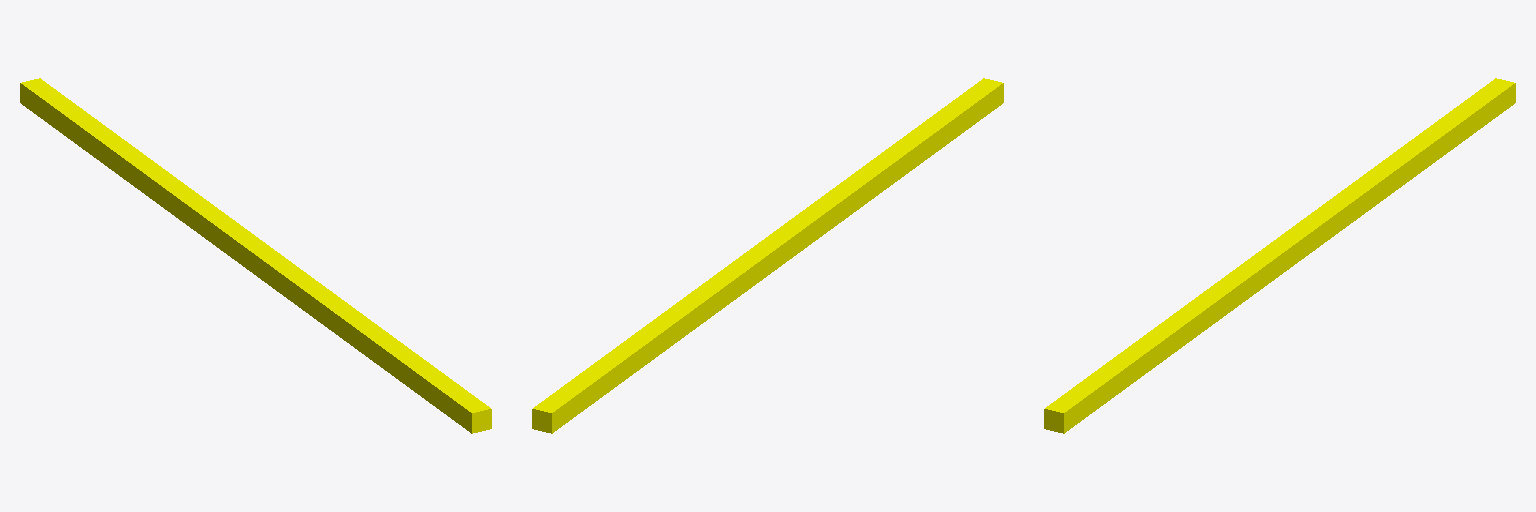
The robot description file, URDF, robot "framefab_irb2400_simple_track":
<?xml version="1.0" ?>
<!-- =================================================================================== -->
<!-- |    This document was autogenerated by xacro from irb2400_with_simple_track_workspace.xacro | -->
<!-- |    EDITING THIS FILE BY HAND IS NOT RECOMMENDED                                 | -->
<!-- =================================================================================== -->
<robot name="framefab_irb2400_simple_track" xmlns:xacro="http://ros.org/wiki/xacro">
  <!-- Conversion were obtained from http://www.e-paint.co.uk/Lab_values.asp
       unless otherwise stated. -->
  <!--	<xacro:include filename="$(find framefab_irb6600_support)/urdf/simple_linear_track_demo_cell_macro.xacro"/>-->
  <!-- link list -->
  <link name="robot_base_link">
    <visual>
      <origin rpy="0 0 0" xyz="0 0 0"/>
      <geometry>
        <mesh filename="package://abb_irb2400_support/meshes/irb2400/visual/base_link.dae"/>
      </geometry>
      <material name="">
        <color rgba="0.7372549 0.3490196 0.1607843 1"/>
      </material>
    </visual>
    <collision>
      <geometry>
        <mesh filename="package://abb_irb2400_support/meshes/irb2400/collision/base_link.stl"/>
      </geometry>
      <material name="">
        <color rgba="1 1 0 1"/>
      </material>
    </collision>
  </link>
  <link name="robot_link_1">
    <visual>
      <origin rpy="0 0 0" xyz="0 0 0"/>
      <geometry>
        <mesh filename="package://abb_irb2400_support/meshes/irb2400/visual/link_1.dae"/>
      </geometry>
      <material name="">
        <color rgba="0.7372549 0.3490196 0.1607843 1"/>
      </material>
    </visual>
    <collision>
      <origin rpy="0 0 0" xyz="0 0 0"/>
      <geometry>
        <mesh filename="package://abb_irb2400_support/meshes/irb2400/collision/link_1.stl"/>
      </geometry>
      <material name="">
        <color rgba="1 1 0 1"/>
      </material>
    </collision>
  </link>
  <link name="robot_link_2">
    <visual>
      <origin rpy="0 0 0" xyz="0 0 0"/>
      <geometry>
        <mesh filename="package://abb_irb2400_support/meshes/irb2400/visual/link_2.dae"/>
      </geometry>
      <material name="">
        <color rgba="0.7372549 0.3490196 0.1607843 1"/>
      </material>
    </visual>
    <collision>
      <origin rpy="0 0 0" xyz="0 0 0"/>
      <geometry>
        <mesh filename="package://abb_irb2400_support/meshes/irb2400/collision/link_2_whole.stl"/>
      </geometry>
      <material name="">
        <color rgba="1 1 0 1"/>
      </material>
    </collision>
  </link>
  <link name="robot_link_3">
    <visual>
      <origin rpy="0 0 0" xyz="0 0 0"/>
      <geometry>
        <mesh filename="package://abb_irb2400_support/meshes/irb2400/visual/link_3.dae"/>
      </geometry>
      <material name="">
        <color rgba="0.7372549 0.3490196 0.1607843 1"/>
      </material>
    </visual>
    <collision>
      <origin rpy="0 0 0" xyz="0 0 0"/>
      <geometry>
        <mesh filename="package://abb_irb2400_support/meshes/irb2400/collision/link_3.stl"/>
      </geometry>
      <material name="">
        <color rgba="1 1 0 1"/>
      </material>
    </collision>
  </link>
  <link name="robot_link_4">
    <visual>
      <origin rpy="0 0 0" xyz="0 0 0"/>
      <geometry>
        <mesh filename="package://abb_irb2400_support/meshes/irb2400/visual/link_4.dae"/>
      </geometry>
      <material name="">
        <color rgba="0.7372549 0.3490196 0.1607843 1"/>
      </material>
    </visual>
    <collision>
      <origin rpy="0 0 0" xyz="0 0 0"/>
      <geometry>
        <mesh filename="package://abb_irb2400_support/meshes/irb2400/collision/link_4.stl"/>
      </geometry>
      <material name="">
        <color rgba="1 1 0 1"/>
      </material>
    </collision>
  </link>
  <link name="robot_link_5">
    <visual>
      <origin rpy="0 0 0" xyz="0 0 0"/>
      <geometry>
        <mesh filename="package://abb_irb2400_support/meshes/irb2400/visual/link_5.dae"/>
      </geometry>
      <material name="">
        <color rgba="0.7372549 0.3490196 0.1607843 1"/>
      </material>
    </visual>
    <collision>
      <origin rpy="0 0 0" xyz="0 0 0"/>
      <geometry>
        <mesh filename="package://abb_irb2400_support/meshes/irb2400/collision/link_5.stl"/>
      </geometry>
      <material name="">
        <color rgba="1 1 0 1"/>
      </material>
    </collision>
  </link>
  <link name="robot_link_6">
    <visual>
      <origin rpy="0 0 0" xyz="0 0 0"/>
      <geometry>
        <mesh filename="package://abb_irb2400_support/meshes/irb2400/visual/link_6.dae"/>
      </geometry>
      <material name="">
        <color rgba="0.1882353 0.1960784 0.2039216 1"/>
      </material>
    </visual>
    <collision>
      <origin rpy="0 0 0" xyz="0 0 0"/>
      <geometry>
        <mesh filename="package://abb_irb2400_support/meshes/irb2400/collision/link_6.stl"/>
      </geometry>
      <material name="">
        <color rgba="1 1 0 1"/>
      </material>
    </collision>
  </link>
  <link name="robot_tool0"/>
  <!-- end of link list -->
  <!-- joint list -->
  <joint name="robot_joint_1" type="revolute">
    <origin rpy="0 0 0" xyz="0 0 0"/>
    <parent link="robot_base_link"/>
    <child link="robot_link_1"/>
    <axis xyz="0 0 1"/>
    <limit effort="0" lower="-3.1416" upper="3.1416" velocity="2.618"/>
  </joint>
  <joint name="robot_joint_2" type="revolute">
    <origin rpy="0 0 0" xyz="0.1 0 0.615"/>
    <parent link="robot_link_1"/>
    <child link="robot_link_2"/>
    <axis xyz="0 1 0"/>
    <limit effort="0" lower="-1.7453" upper="1.9199" velocity="2.618"/>
  </joint>
  <joint name="robot_joint_3" type="revolute">
    <origin rpy="0 0 0" xyz="0 0 0.705"/>
    <parent link="robot_link_2"/>
    <child link="robot_link_3"/>
    <axis xyz="0 1 0"/>
    <limit effort="0" lower="-1.0472" upper="1.1345" velocity="2.618"/>
  </joint>
  <joint name="robot_joint_4" type="revolute">
    <origin rpy="0 0 0" xyz="0.258 0 0.135"/>
    <parent link="robot_link_3"/>
    <child link="robot_link_4"/>
    <axis xyz="1 0 0"/>
    <limit effort="0" lower="-3.49" upper="3.49" velocity="6.2832"/>
  </joint>
  <joint name="robot_joint_5" type="revolute">
    <origin rpy="0 0 0" xyz="0.497 0 0"/>
    <parent link="robot_link_4"/>
    <child link="robot_link_5"/>
    <axis xyz="0 1 0"/>
    <limit effort="0" lower="-2.0944" upper="2.0944" velocity="6.2832"/>
  </joint>
  <joint name="robot_joint_6" type="revolute">
    <origin rpy="0 0 0" xyz="0.085 0 0"/>
    <parent link="robot_link_5"/>
    <child link="robot_link_6"/>
    <axis xyz="1 0 0"/>
    <limit effort="0" lower="-6.9813" upper="6.9813" velocity="7.854"/>
  </joint>
  <joint name="robot_joint_6-tool0" type="fixed">
    <parent link="robot_link_6"/>
    <child link="robot_tool0"/>
    <origin rpy="0 1.57079632679 0" xyz="0 0 0"/>
  </joint>
  <!-- end of joint list -->
  <!-- ROS base_link to ABB World Coordinates transform -->
  <link name="robot_base"/>
  <joint name="robot_base_link-base" type="fixed">
    <origin rpy="0 0 0" xyz="0 0 0"/>
    <parent link="robot_base_link"/>
    <child link="robot_base"/>
  </joint>
  <!-- link list -->
  <link name="eef_base_link">
    <visual>
      <origin rpy="0 0 0" xyz="8.8e-05 0.000769 -0.002121"/>
      <geometry>
        <mesh filename="package://asw_end_effector/meshes/visual/asw_hotend_end_effector.stl" scale=".001 .001 .001"/>
      </geometry>
      <material name="grey">
        <color rgba="0.5 0.5 0.5 1.0"/>
      </material>
    </visual>
    <collision>
      <origin rpy="0 0 0" xyz="8.8e-05 0.000769 -0.002121"/>
      <geometry>
        <mesh filename="package://asw_end_effector/meshes/collision/asw_hotend_end_effector_shrinked_tip-4mm.stl" scale=".001 .001 .001"/>
      </geometry>
      <material name="red">
        <color rgba="1 0 0 1"/>
      </material>
    </collision>
  </link>
  <link name="eef_tcp_frame"/>
  <!-- end of link list -->
  <!-- joint list -->
  <joint name="eef_base_to_tcp" type="fixed">
    <origin rpy="0.0 1.57079632679 0.0" xyz="0.150539 0.001052 0.119157"/>
    <parent link="eef_base_link"/>
    <child link="eef_tcp_frame"/>
  </joint>
  <!-- end of joint list -->
  <!--	Link list-->
  <link name="linear_axis_base_link">
    <visual>
      <geometry>
        <box size="4 0.1 0.1"/>
      </geometry>
      <material name="yellow">
        <color rgba="1.0 1.0 0 1.0"/>
      </material>
    </visual>
    <collision>
      <origin xyz="0 0 0"/>
      <geometry>
        <box size="4 0.1 0.1"/>
      </geometry>
      <material name="yellow">
        <color rgba="1.0 1.0 0 1.0"/>
      </material>
    </collision>
  </link>
  <link name="linear_axis_robot_mount"/>
  <!--	End of link list-->
  <!-- Joint list -->
  <joint name="linear_axis_actuation_joint" type="prismatic">
    <parent link="linear_axis_base_link"/>
    <child link="linear_axis_robot_mount"/>
    <origin xyz="0 0 0.05"/>
    <axis xyz="1 0 0"/>
    <limit effort="1" lower="-2" upper="2" velocity="1"/>
  </joint>
  <!-- End of joint list -->
  <!--  <xacro:simple_linear_track_demo_cell prefix=""/>-->
  <!-- Link list -->
  <link name="base_link"/>
  <!-- End of link list -->
  <!-- Joint list -->
  <!--bind the rail to word_frame, can be disabled if using modile platform-->
  <joint name="linear_axis_to_base_link" type="fixed">
    <origin rpy="0 0 1.57079632679" xyz="0 0 0"/>
    <parent link="base_link"/>
    <child link="linear_axis_base_link"/>
  </joint>
  <joint name="robot_to_linear_axis" type="fixed">
    <origin rpy="0 0 -1.57079632679" xyz="0 0 0"/>
    <parent link="linear_axis_robot_mount"/>
    <child link="robot_base_link"/>
  </joint>
  <joint name="ee_to_robot" type="fixed">
    <parent link="robot_tool0"/>
    <child link="eef_base_link"/>
    <origin rpy="0 0 0" xyz="0 0 0"/>
  </joint>
  <!-- End of joint list -->
</robot>

--- Facts derived from the render (not from the file) ---
The picture shows the robot from 3 angles, left to right: view 1: azimuth 30°, elevation 25°; view 2: azimuth 150°, elevation 25°; view 3: azimuth 330°, elevation 25°; orthographic projection.
Robot: framefab_irb2400_simple_track — 14 links, 13 joints (6 revolute, 1 prismatic, 6 fixed); root link base_link; default pose: every joint at zero.
Visible links, largest first — view 1: linear_axis_base_link; view 2: linear_axis_base_link; view 3: linear_axis_base_link.
Link boxes in pixels (bbox=[...]): linear_axis_base_link: bbox=[20, 78, 491, 433]; linear_axis_base_link: bbox=[532, 78, 1003, 433]; linear_axis_base_link: bbox=[1044, 78, 1515, 433].
Size in the robot's own frame: 0.1 by 4 by 0.1 metres.
Meshes: 8 distinct files referenced, 0 mesh visuals loaded (none loaded); not drawn: 8 (reference not matched to a file when rendering).